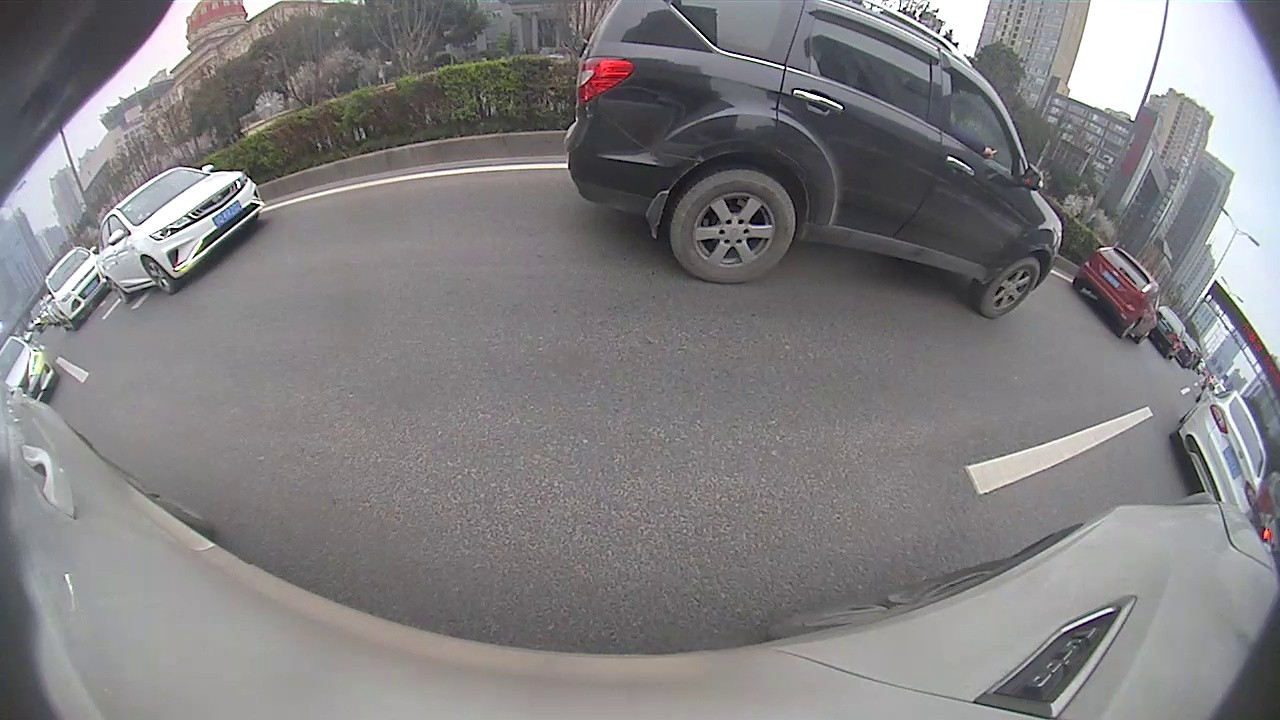car: (565, 2, 1061, 319), (96, 163, 266, 306), (1169, 388, 1268, 515), (1071, 245, 1162, 345), (44, 245, 113, 331), (0, 336, 60, 404), (1148, 304, 1186, 361)
front: (979, 255, 1040, 318), (142, 253, 179, 297)
rear: (670, 168, 797, 286), (109, 282, 132, 307), (1120, 319, 1140, 339)
